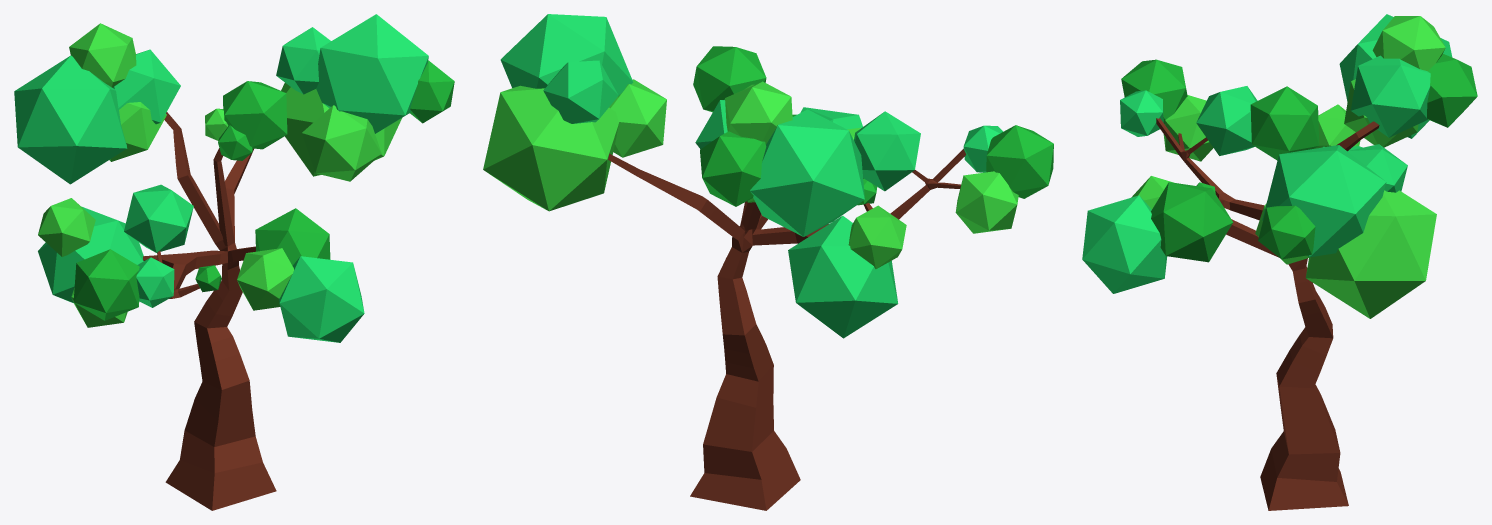
3 renders of one model, left to right at view 1: azimuth 30°, elevation 25°; view 2: azimuth 150°, elevation 25°; view 3: azimuth 270°, elevation 25°, orthographic. The views are drawn at different scales.
Visible parts, largest first — view 1: Cube, Icosphere.009, Icosphere.017, Icosphere, Icosphere.019, Icosphere.005, Icosphere.008, Icosphere.006, Icosphere.012, Icosphere.013, Icosphere.014, Icosphere.001 (+11 smaller); view 2: Cube, Icosphere.021, Icosphere.009, Icosphere.006, Icosphere.017, Icosphere.008, Icosphere.010, Icosphere.005, Icosphere.020, Icosphere.019, Icosphere.012, Icosphere.003 (+4 smaller); view 3: Cube, Icosphere.021, Icosphere.017, Icosphere, Icosphere.014, Icosphere.001, Icosphere.012, Icosphere.008, Icosphere.013, Icosphere.010, Icosphere.018, Icosphere.005 (+7 smaller).
Part boxes in pixels (bbox=[...]): Cube: bbox=[143, 112, 276, 510]; Icosphere.009: bbox=[14, 55, 127, 184]; Icosphere.017: bbox=[316, 14, 428, 133]; Icosphere: bbox=[279, 256, 364, 342]; Icosphere.019: bbox=[302, 105, 381, 181]; Icosphere.005: bbox=[73, 249, 139, 320]; Icosphere.008: bbox=[124, 184, 193, 252]; Icosphere.006: bbox=[38, 206, 143, 303]; Icosphere.012: bbox=[223, 81, 287, 149]; Icosphere.013: bbox=[69, 23, 136, 87]; Icosphere.014: bbox=[113, 49, 180, 124]; Icosphere.001: bbox=[255, 208, 330, 265]; Cube: bbox=[608, 149, 965, 510]; Icosphere.021: bbox=[483, 85, 619, 211]; Icosphere.009: bbox=[750, 109, 864, 236]; Icosphere.006: bbox=[788, 215, 898, 338]; Icosphere.017: bbox=[500, 14, 633, 96]; Icosphere.008: bbox=[854, 111, 920, 191]; Icosphere.010: bbox=[700, 131, 766, 206]; Icosphere.005: bbox=[986, 125, 1053, 198]; Icosphere.020: bbox=[543, 60, 618, 123]; Icosphere.019: bbox=[609, 79, 666, 157]; Icosphere.012: bbox=[693, 46, 766, 112]; Icosphere.003: bbox=[955, 171, 1018, 233]; Cube: bbox=[1156, 118, 1379, 510]; Icosphere.021: bbox=[1305, 190, 1436, 318]; Icosphere.017: bbox=[1262, 145, 1386, 257]; Icosphere: bbox=[1082, 195, 1167, 293]; Icosphere.014: bbox=[1350, 55, 1430, 137]; Icosphere.001: bbox=[1151, 182, 1233, 262]; Icosphere.012: bbox=[1250, 86, 1319, 160]; Icosphere.008: bbox=[1196, 86, 1257, 155]; Icosphere.013: bbox=[1372, 16, 1445, 71]; Icosphere.010: bbox=[1427, 54, 1477, 127]; Icosphere.018: bbox=[1258, 205, 1315, 259]; Icosphere.005: bbox=[1121, 59, 1187, 124].
Bounding box in the file's own units: 1874 × 1790 × 1442.
